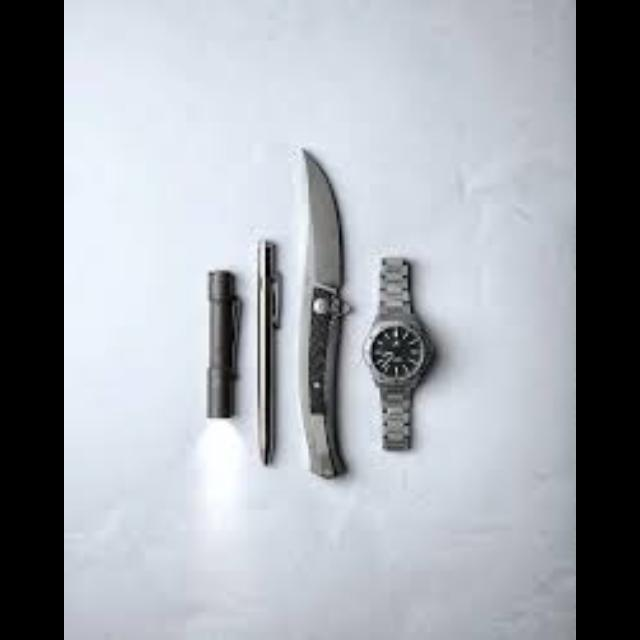knife: (297, 146, 347, 477)
